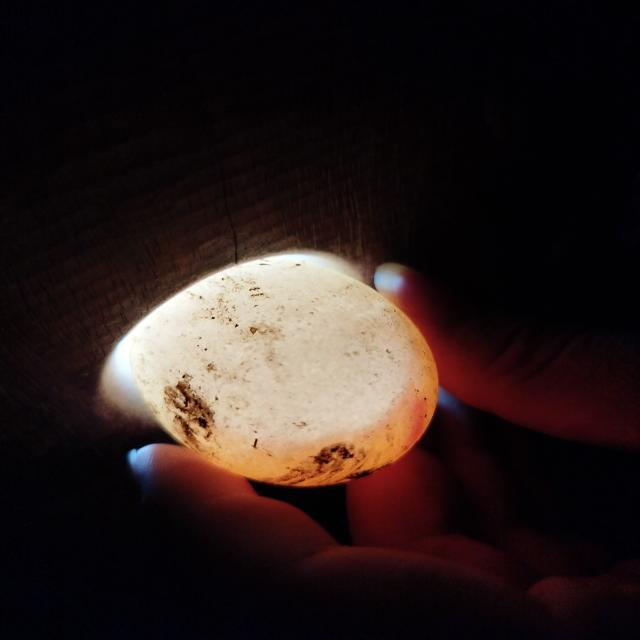Camara de Ar: (171, 256, 411, 437)
